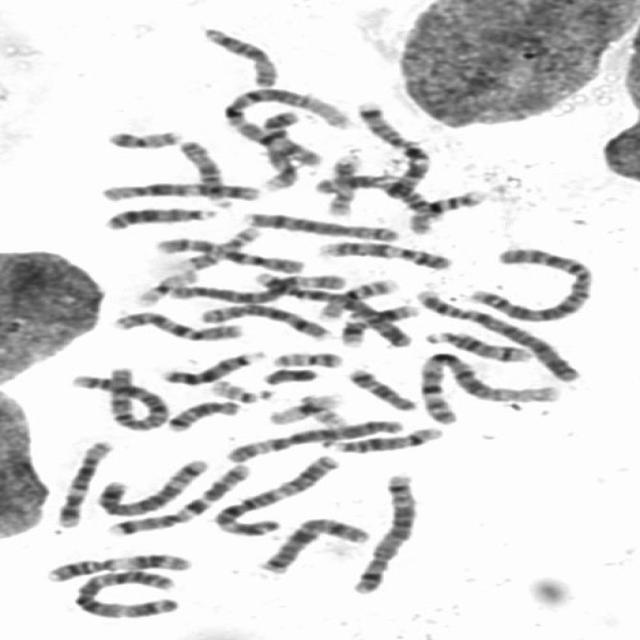A1: (211, 81, 357, 167), (407, 346, 558, 427)
A2: (460, 241, 598, 323), (62, 365, 172, 432)
A3: (206, 449, 342, 538), (66, 564, 182, 620)
B4: (406, 282, 584, 384), (245, 268, 414, 348)
B5: (343, 467, 421, 596), (89, 453, 212, 518)
C10: (147, 232, 306, 275), (104, 304, 246, 342)
C11: (310, 175, 444, 222), (35, 547, 195, 583)
C12: (48, 435, 116, 529), (91, 176, 264, 203)
C6: (215, 412, 406, 463), (162, 268, 350, 304)
C7: (95, 457, 255, 537), (348, 94, 434, 198)
C8: (190, 298, 334, 342), (236, 206, 402, 243)
C9: (308, 236, 455, 271), (252, 105, 304, 193)
D13: (152, 344, 267, 386), (95, 200, 221, 232)
D14: (321, 421, 447, 455), (416, 326, 534, 362)
D15: (193, 21, 282, 88), (170, 135, 234, 208)
E16: (400, 183, 489, 236), (310, 274, 402, 322)
E17: (170, 221, 266, 272), (317, 149, 364, 218)
E18: (339, 362, 418, 412), (158, 394, 242, 433)
F19: (127, 265, 200, 308), (264, 390, 345, 426)
F20: (97, 123, 185, 150), (264, 345, 346, 369)
G21: (334, 313, 371, 348), (373, 304, 424, 324)
G22: (290, 389, 349, 427), (203, 374, 275, 404)
X: (251, 511, 373, 575)
Y: (255, 362, 320, 386)
